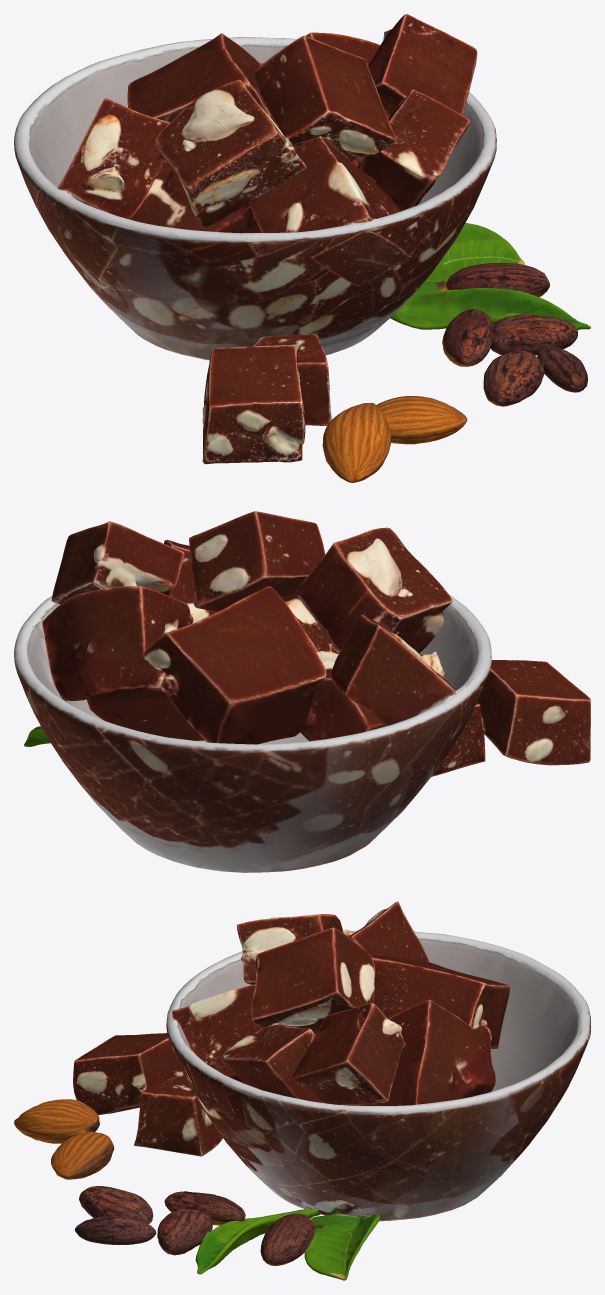
File: almond_chocolate.glb
The picture shows the model from 3 angles, top to bottom: view 1: azimuth 30°, elevation 25°; view 2: azimuth 150°, elevation 25°; view 3: azimuth 270°, elevation 25°; orthographic projection. The views are drawn at different scales.
Visible parts, largest first — view 1: Mesh_0.004; view 2: Mesh_0.004; view 3: Mesh_0.004.
Part boxes in pixels (bbox=[...]): Mesh_0.004: bbox=[14, 14, 590, 482]; Mesh_0.004: bbox=[14, 511, 590, 872]; Mesh_0.004: bbox=[14, 901, 590, 1280].
Bounding box in the file's own units: 1.55 × 0.9323 × 1.9.
Materials: 1 (1 with a texture image).
